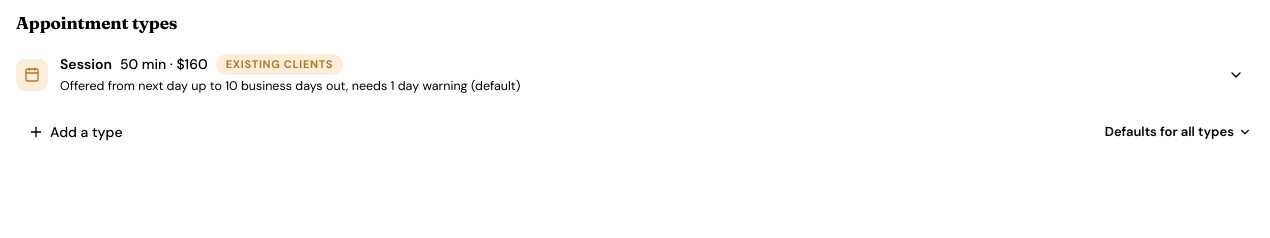
Test case: AppointmentTypesCard — booking controls › keeps the patients' cutoffs out of the defaults until they can book
The image size is (1270, 238).
Step 1. Click the button "Defaults for all types" → (1178, 132), box [1105,122,1252,142]
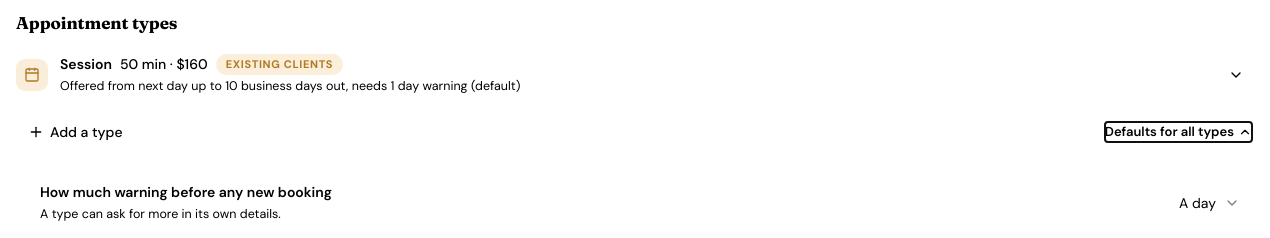
Expected: the text "How much warning before any new booking" is shown, [40,182,332,202]
